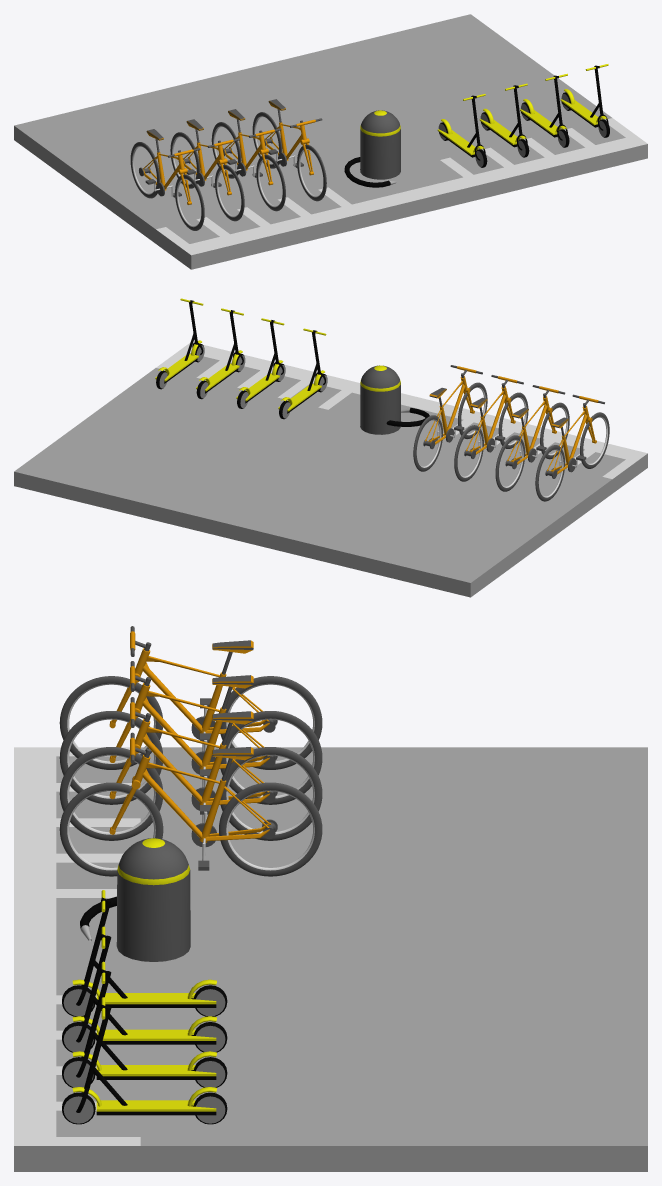
Rendered from ridables.fbx.
The picture shows the model from 3 angles, top to bottom: view 1: azimuth 30°, elevation 25°; view 2: azimuth 150°, elevation 25°; view 3: azimuth 270°, elevation 25°; orthographic projection. The views are drawn at different scales.
Visible parts, largest first — view 1: ground1; view 2: ground1; view 3: ground1.
Part boxes in pixels (left/top/right/bottom): ground1: left=14, top=14, right=647, bottom=269; ground1: left=14, top=298, right=647, bottom=597; ground1: left=14, top=626, right=647, bottom=1171.
Size of the model in its own units: 114 by 20.84 by 76.41.
